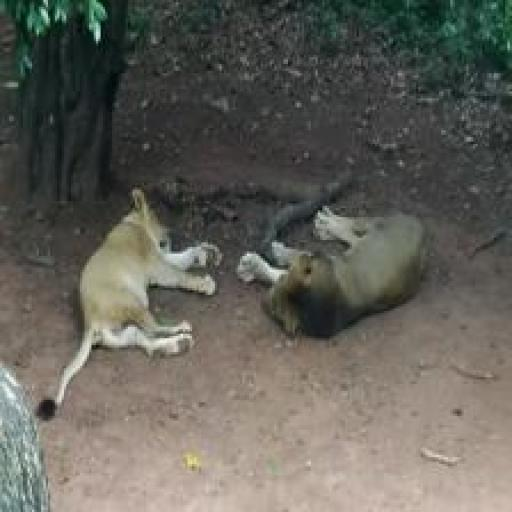Tiger: (36, 180, 228, 455)
